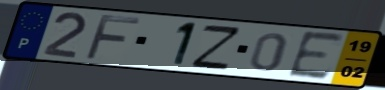0: (247, 31, 294, 72)
1: (171, 20, 200, 69)
2: (42, 11, 88, 59)
E: (285, 30, 348, 82)
F: (82, 13, 143, 62)
Z: (188, 23, 244, 71)
